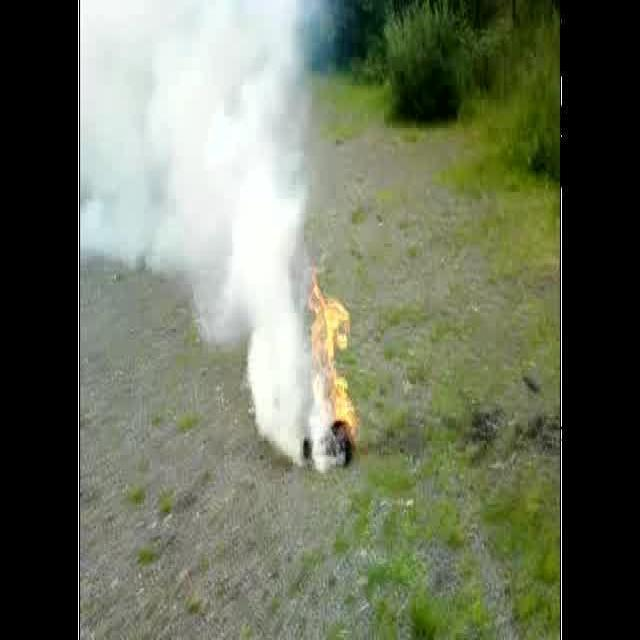fire: (310, 277, 358, 439)
